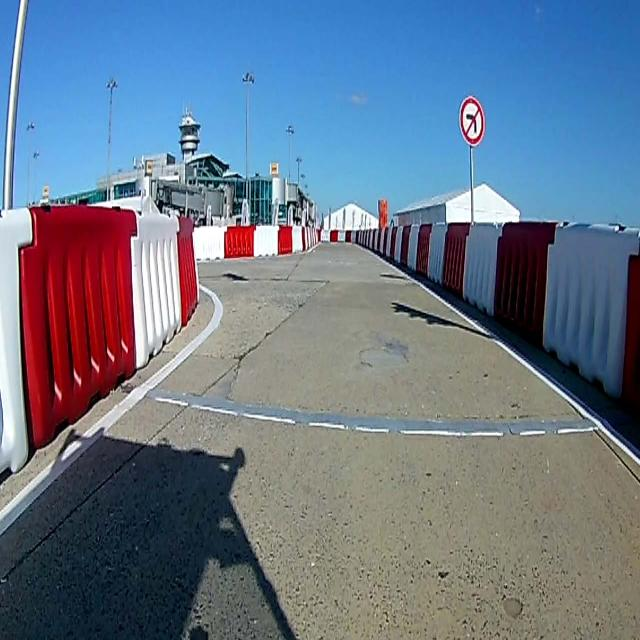soladonulmez: (458, 93, 486, 143)
